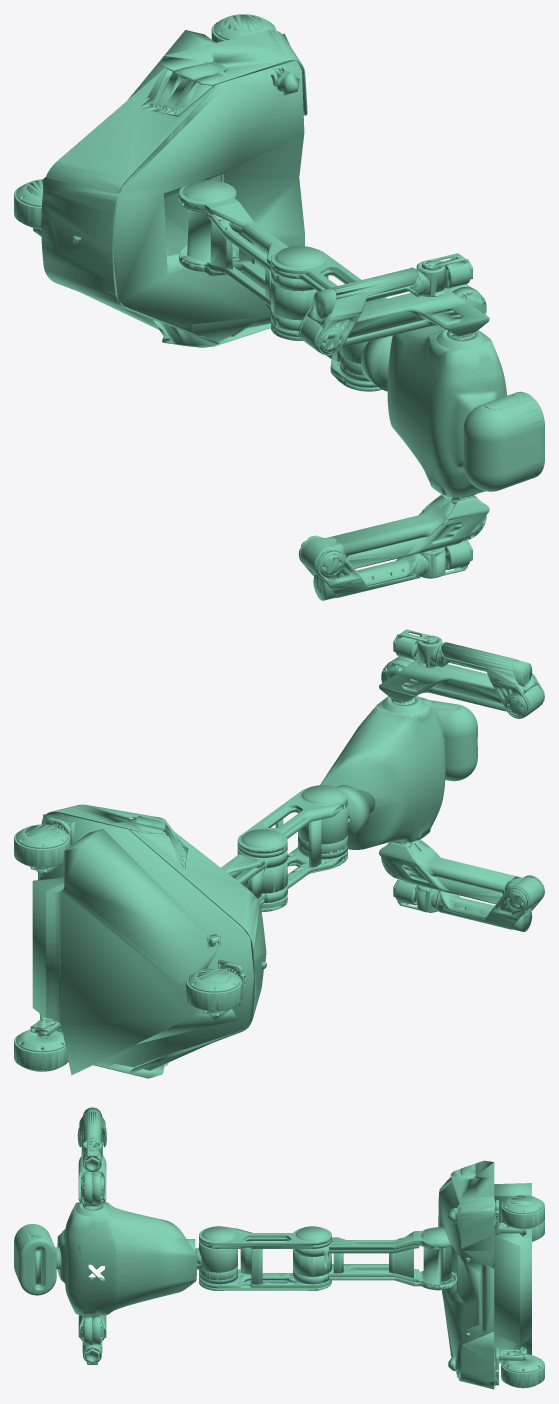
Rendered from galaxea_r1.glb.
The picture shows the model from 3 angles, top to bottom: view 1: azimuth 30°, elevation 25°; view 2: azimuth 150°, elevation 25°; view 3: azimuth 270°, elevation 25°; orthographic projection. The views are drawn at different scales.
Parts seen in each view (by area): view 1: visual__base_link__0, visual__torso_link4__0, visual__torso_link1__0, visual__zed_link__0, visual__right_arm_link2__0, visual__left_arm_link2__0, visual__left_arm_link3__0, visual__right_arm_link3__0, visual__torso_link2__0, visual__wheel_motor_link3__0, visual__wheel_motor_link1__0, visual__left_arm_link5__0 (+4 smaller); view 2: visual__base_link__0, visual__torso_link4__0, visual__torso_link2__0, visual__right_arm_link2__0, visual__left_arm_link2__0, visual__left_arm_link3__0, visual__right_arm_link3__0, visual__zed_link__0, visual__torso_link1__0, visual__wheel_motor_link3__0, visual__wheel_motor_link1__0, visual__wheel_motor_link2__0 (+5 smaller); view 3: visual__base_link__0, visual__torso_link4__0, visual__torso_link1__0, visual__torso_link2__0, visual__zed_link__0, visual__torso_link3__0, visual__wheel_motor_link1__0, visual__wheel_motor_link2__0, visual__left_arm_link3__0, visual__left_arm_link1__0, visual__right_arm_link1__0, visual__left_arm_link2__0 (+2 smaller).
Part boxes in pixels (<box>): visual__base_link__0: <box>41,30,307,347</box>; visual__torso_link4__0: <box>361,326,506,497</box>; visual__torso_link1__0: <box>179,180,328,330</box>; visual__zed_link__0: <box>463,391,544,491</box>; visual__right_arm_link2__0: <box>301,494,489,576</box>; visual__left_arm_link2__0: <box>301,288,489,352</box>; visual__left_arm_link3__0: <box>298,267,423,355</box>; visual__right_arm_link3__0: <box>298,535,423,600</box>; visual__torso_link2__0: <box>271,246,386,391</box>; visual__wheel_motor_link3__0: <box>14,179,43,229</box>; visual__wheel_motor_link1__0: <box>211,14,275,42</box>; visual__left_arm_link5__0: <box>422,253,470,288</box>; visual__base_link__0: <box>32,804,266,1078</box>; visual__torso_link4__0: <box>320,696,445,849</box>; visual__torso_link2__0: <box>237,785,347,911</box>; visual__right_arm_link2__0: <box>379,839,542,910</box>; visual__left_arm_link2__0: <box>379,659,542,715</box>; visual__left_arm_link3__0: <box>436,642,544,718</box>; visual__right_arm_link3__0: <box>436,875,544,931</box>; visual__zed_link__0: <box>429,700,477,781</box>; visual__torso_link1__0: <box>221,848,287,905</box>; visual__wheel_motor_link3__0: <box>186,968,242,1020</box>; visual__wheel_motor_link1__0: <box>14,824,69,877</box>; visual__wheel_motor_link2__0: <box>14,1019,68,1071</box>; visual__base_link__0: <box>438,1160,531,1389</box>; visual__torso_link4__0: <box>57,1202,196,1315</box>; visual__torso_link1__0: <box>293,1227,457,1290</box>; visual__torso_link2__0: <box>199,1226,331,1290</box>; visual__zed_link__0: <box>14,1224,61,1295</box>; visual__torso_link3__0: <box>195,1241,237,1284</box>; visual__wheel_motor_link1__0: <box>501,1195,544,1236</box>; visual__wheel_motor_link2__0: <box>501,1347,544,1388</box>; visual__left_arm_link3__0: <box>77,1107,106,1148</box>; visual__left_arm_link1__0: <box>81,1172,103,1209</box>; visual__right_arm_link1__0: <box>81,1315,103,1345</box>; visual__left_arm_link2__0: <box>78,1135,106,1204</box>.
Bounding box in the file's own units: 0.7034 × 0.7494 × 1.7.
